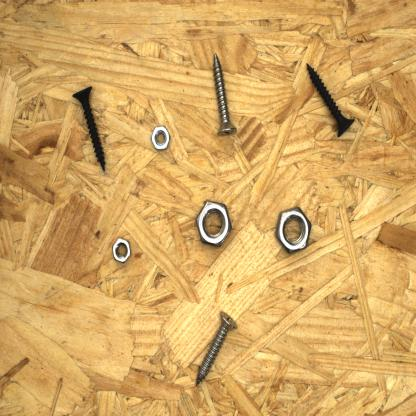screw: (305, 62, 356, 140), (195, 308, 239, 388), (71, 82, 107, 175), (211, 51, 239, 140)
